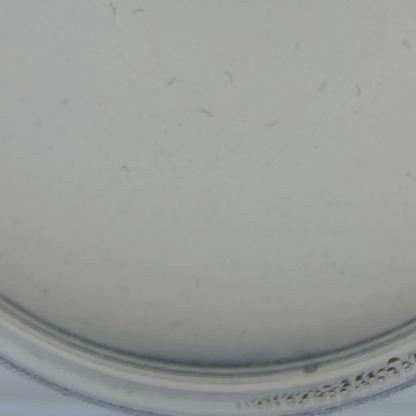worm: (106, 162, 136, 182), (217, 63, 241, 87), (157, 73, 187, 90), (349, 75, 366, 104), (99, 0, 122, 21), (315, 73, 335, 97), (195, 102, 217, 123), (131, 1, 150, 17), (400, 169, 416, 185), (261, 117, 283, 128), (401, 35, 416, 51), (190, 271, 203, 289)
